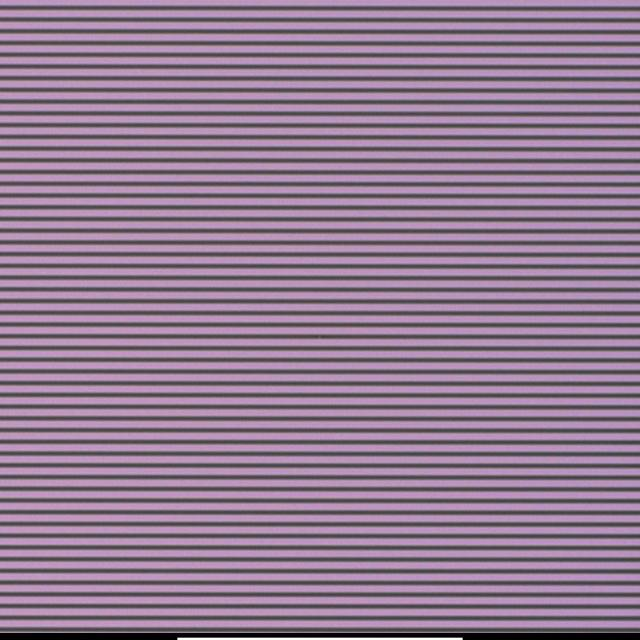03_intrusion: (316, 335, 324, 343)
